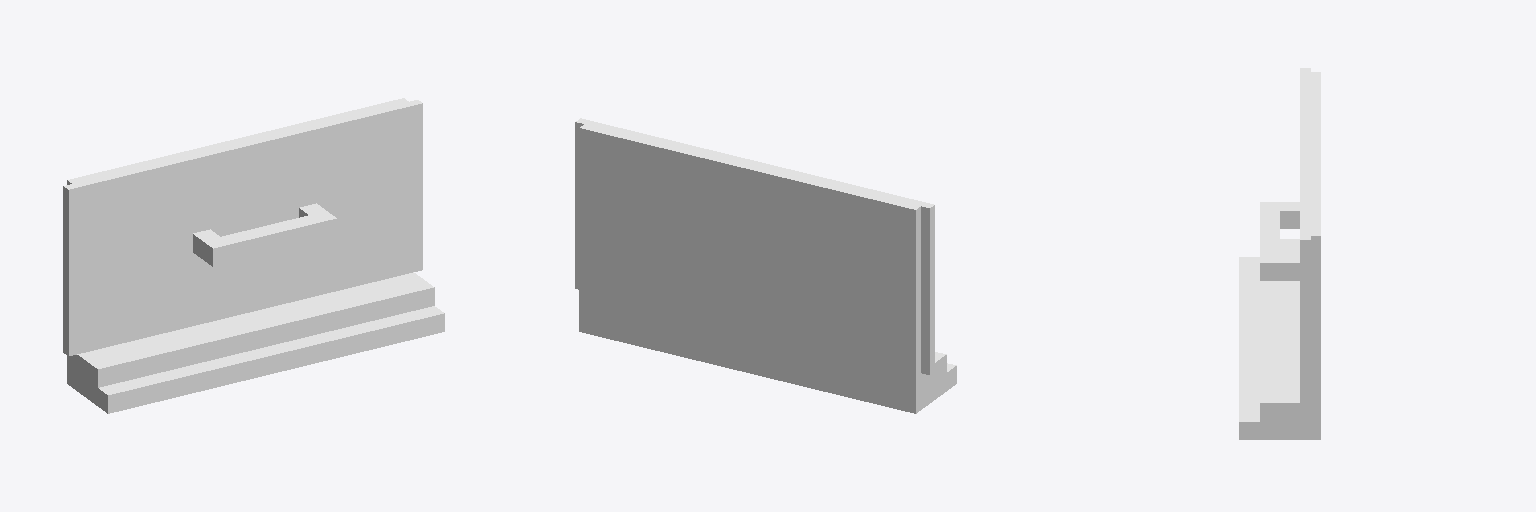
Rendered from mailbox_door.obj.
3 renders of one model, left to right at view 1: azimuth 30°, elevation 25°; view 2: azimuth 150°, elevation 25°; view 3: azimuth 270°, elevation 25°, orthographic.
Bounding box in the file's own units: 40 × 22 × 8.